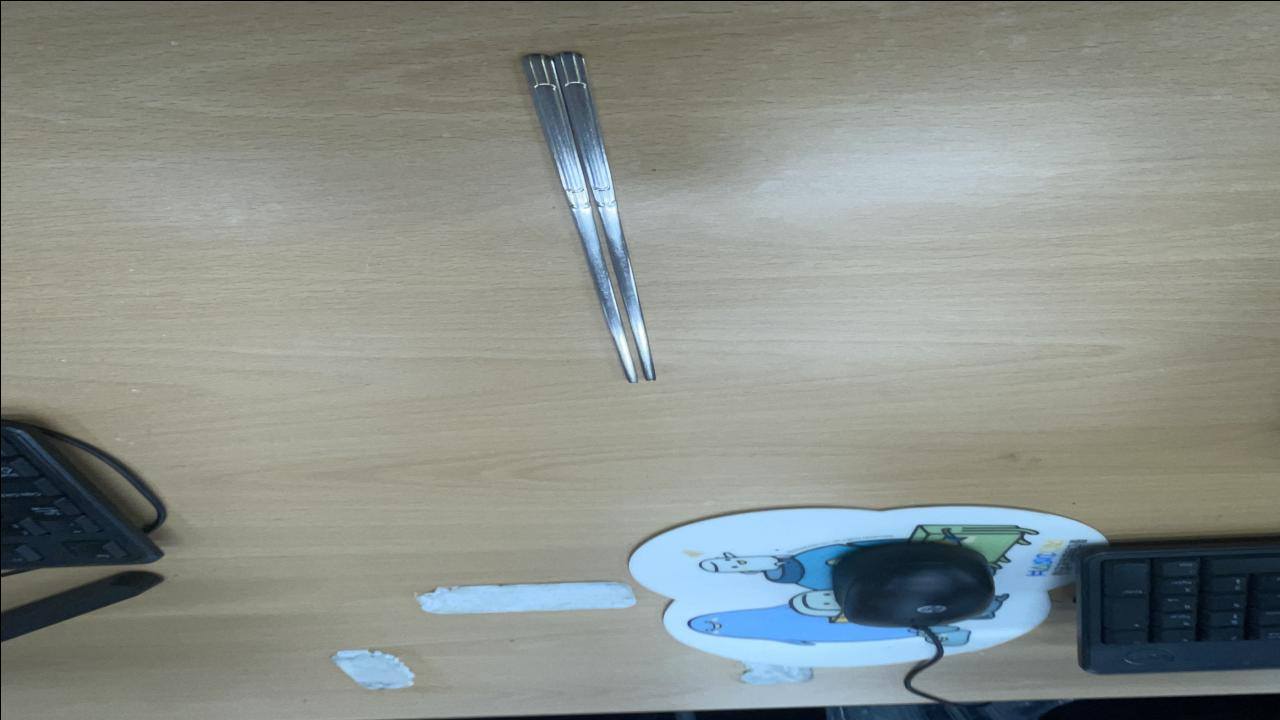chopstick: (520, 47, 662, 383)
